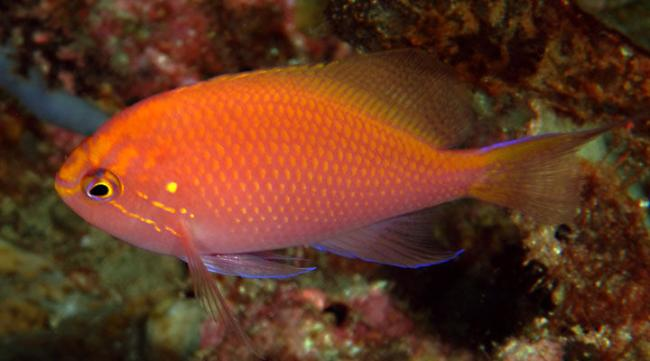fish: (54, 52, 613, 331)
